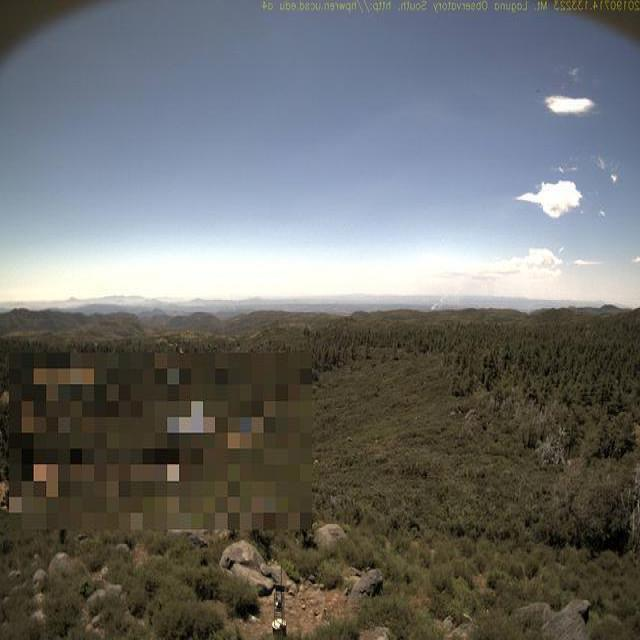smoke: (429, 271, 490, 308)
